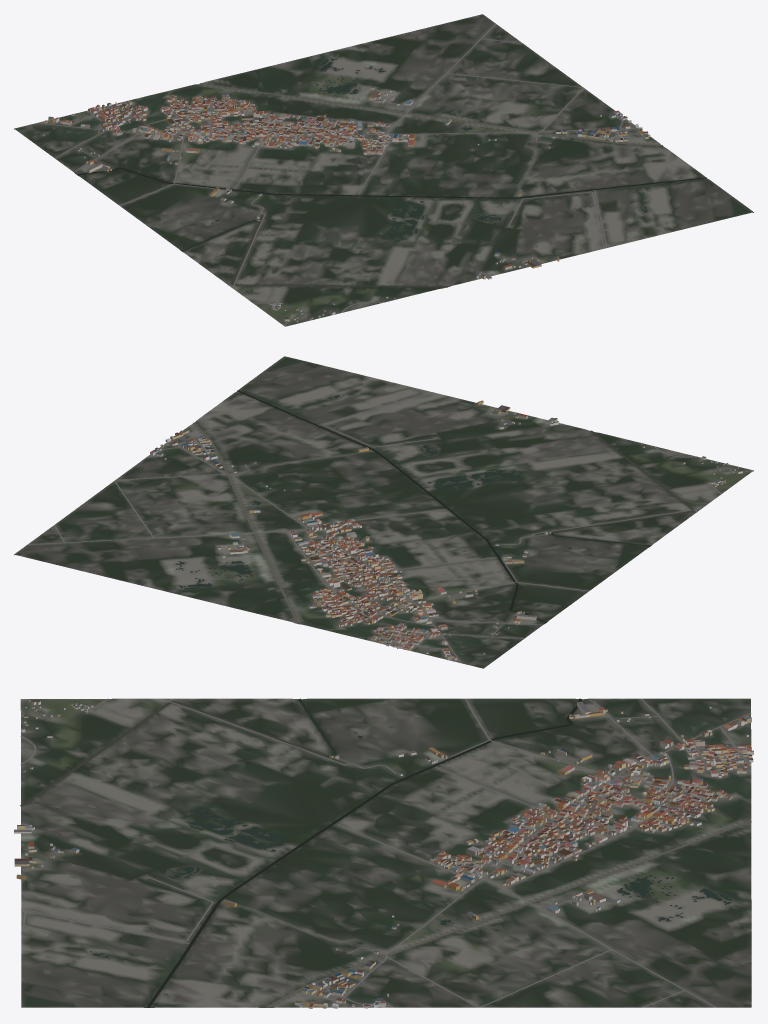
The picture shows the model from 3 angles, top to bottom: view 1: azimuth 30°, elevation 25°; view 2: azimuth 150°, elevation 25°; view 3: azimuth 270°, elevation 25°; orthographic projection. The views are drawn at different scales.
Parts seen in each view (by area): view 1: ground, buildings, water, roads; view 2: ground, buildings, water, roads; view 3: ground, buildings, water, roads.
Boxes of the visible parts, x1,y1,x2,y2 form: ground: (14, 14, 753, 326); buildings: (42, 87, 650, 323); water: (77, 58, 706, 287); roads: (36, 23, 637, 312); ground: (14, 356, 753, 668); buildings: (150, 400, 747, 660); water: (175, 390, 694, 623); roads: (27, 385, 721, 663); ground: (20, 698, 751, 1007); buildings: (14, 699, 753, 1008); water: (20, 698, 751, 1007); roads: (20, 698, 751, 1007).
Bounding box in the file's own units: 1409 × 18.45 × 1420.
